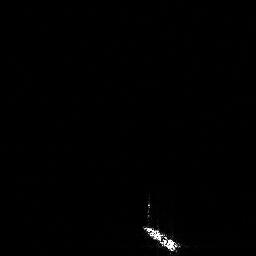ship: (139, 220, 185, 256)
